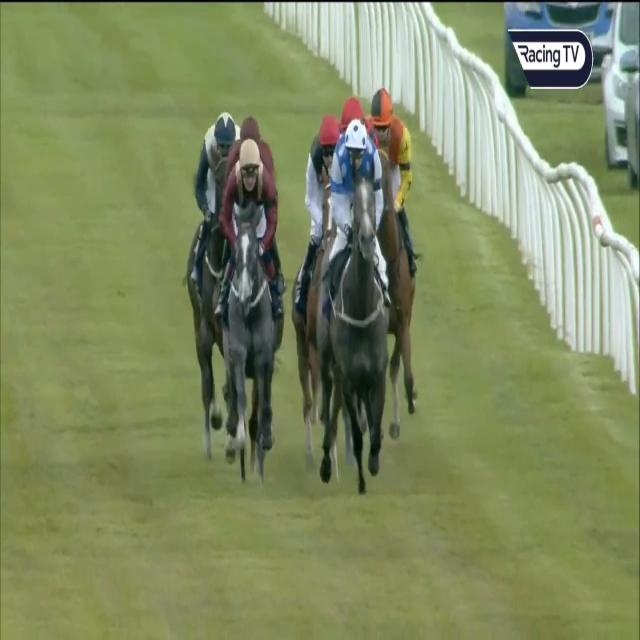horses-racing: (318, 109, 399, 524), (362, 87, 446, 407), (212, 145, 284, 494), (288, 102, 336, 464), (185, 115, 228, 436), (223, 104, 286, 200), (335, 84, 382, 154)
